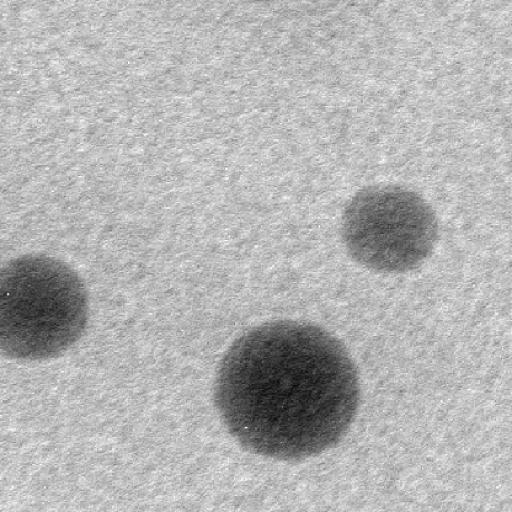Nanoparticles: (208, 311, 366, 459), (1, 252, 96, 363), (337, 176, 442, 271)
